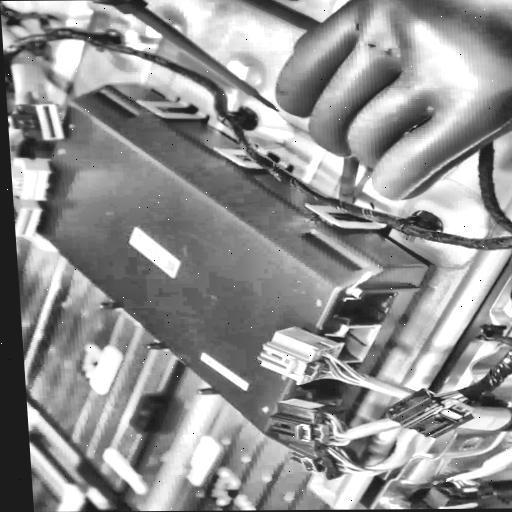bms_unit: (27, 82, 429, 449)
high_volt_cable: (246, 322, 512, 485)
low_volt_cable: (3, 25, 512, 328), (380, 342, 512, 442)
